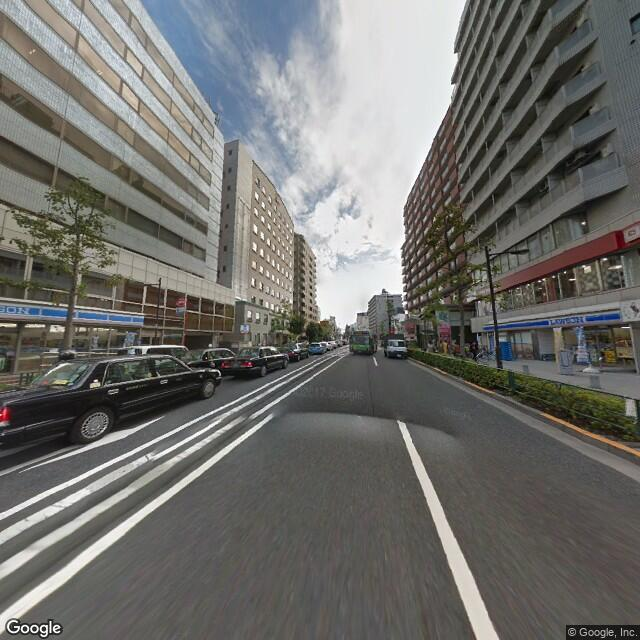lawson: (482, 300, 630, 335), (1, 296, 145, 329)
